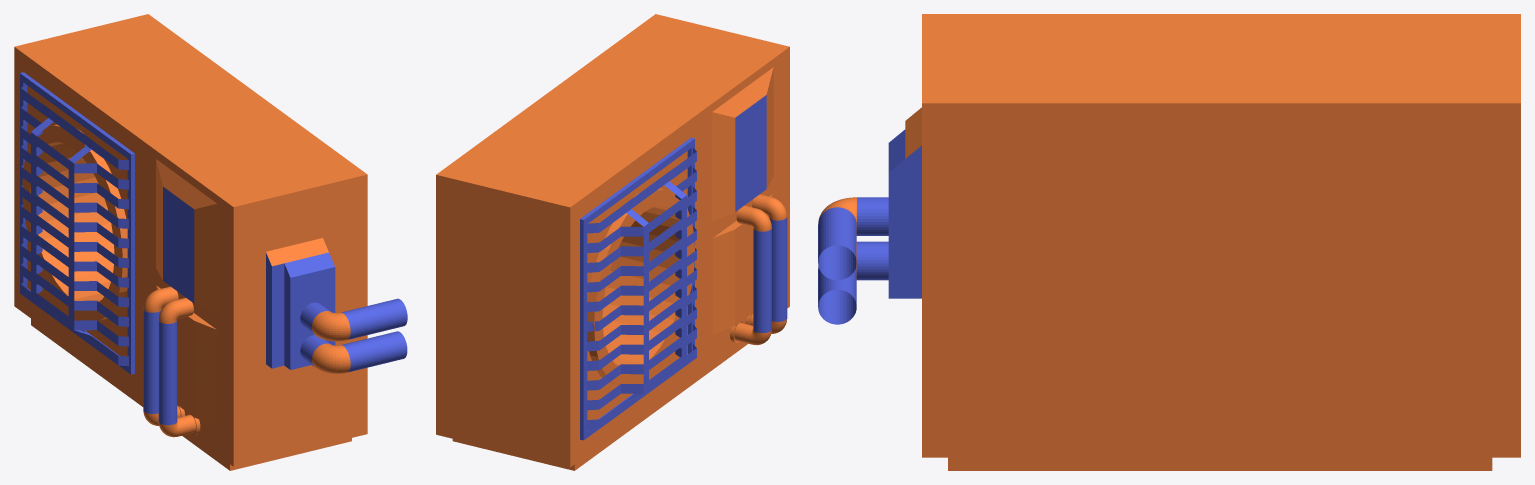
The model's file is ACUnit.fbx.
3 views of the same model, side by side, from view 1: azimuth 30°, elevation 25°; view 2: azimuth 150°, elevation 25°; view 3: azimuth 270°, elevation 25° (orthographic). The views are drawn at different scales.
Parts seen in each view (by area): view 1: AC Unit; view 2: AC Unit; view 3: AC Unit.
Boxes of the visible parts, x1,y1,x2,y2 form: AC Unit: (14, 14, 407, 470); AC Unit: (436, 14, 789, 470); AC Unit: (818, 14, 1520, 470).
Size of the model in its own units: 3333 by 5072 by 8691.
